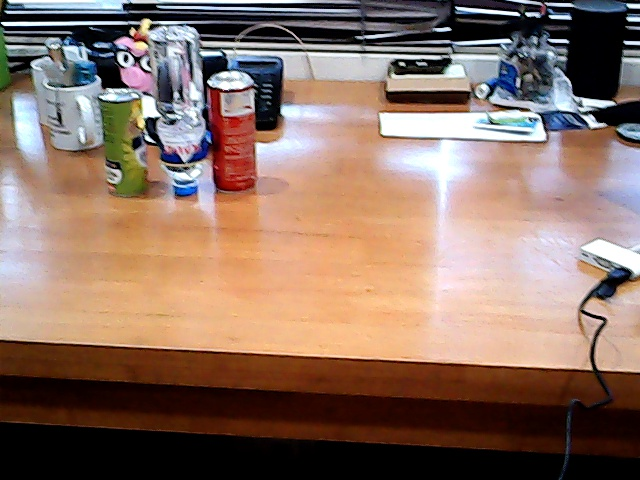Cola: (206, 64, 268, 199)
Pine Juice: (95, 81, 149, 203)
Summit Water: (147, 21, 219, 200)
